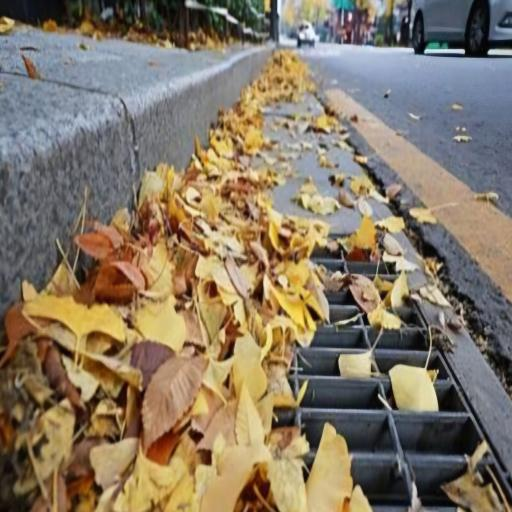debris: (443, 442, 507, 508), (383, 362, 444, 408), (309, 379, 378, 408), (298, 351, 331, 375), (340, 356, 375, 377), (378, 336, 406, 359)
drain: (10, 223, 509, 508)
